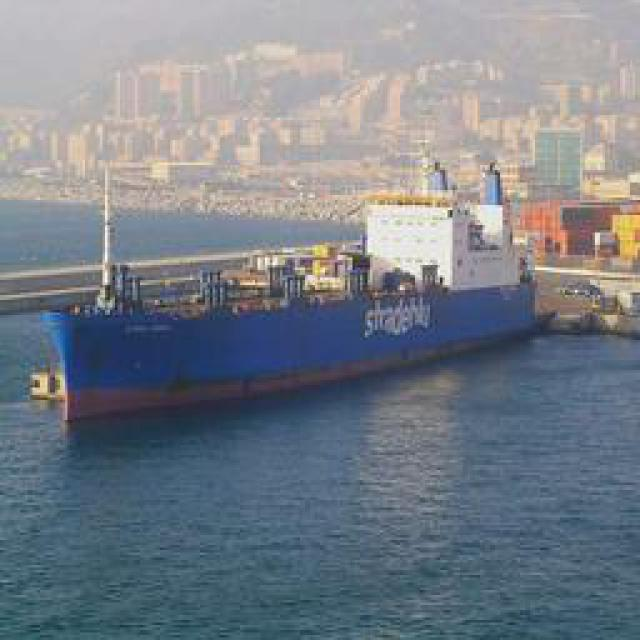Ship: (35, 179, 548, 429)
